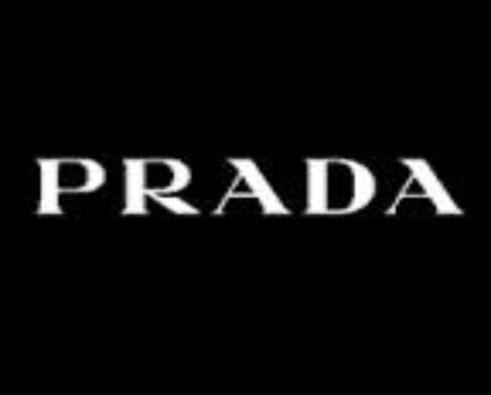PRADA: (30, 148, 460, 225)
